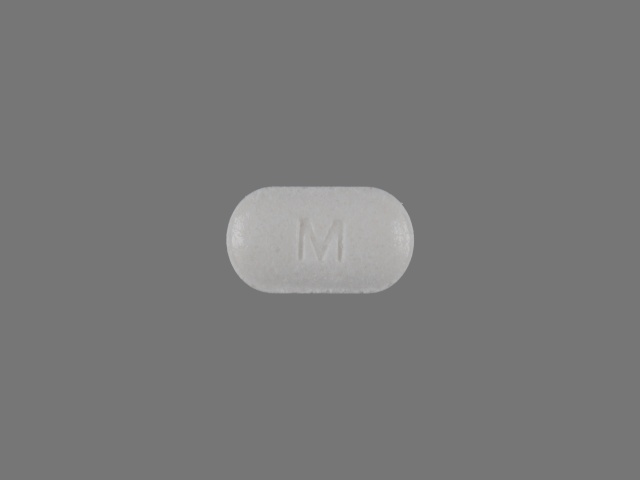M: (292, 214, 347, 265)
